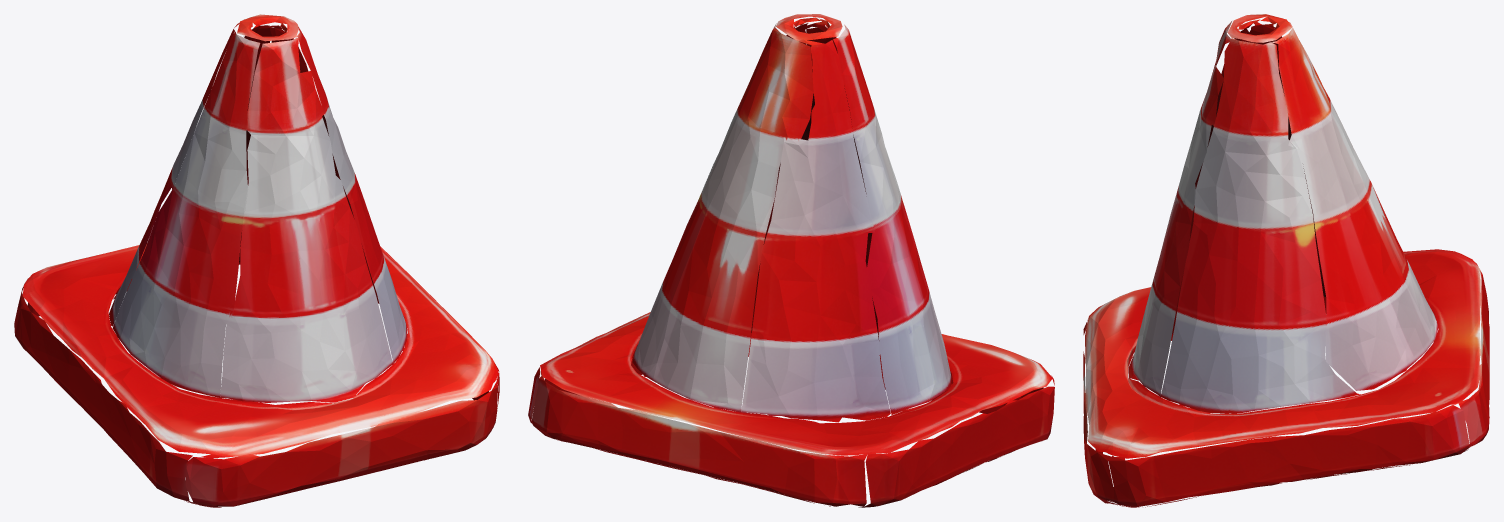
The model's file is hatTrafficCone_lo.glb.
3 renders of one model, left to right at view 1: azimuth 30°, elevation 25°; view 2: azimuth 150°, elevation 25°; view 3: azimuth 270°, elevation 25°, orthographic. The views are drawn at different scales.
Visible parts, largest first — view 1: geometry_0; view 2: geometry_0; view 3: geometry_0.
Boxes of the visible parts, x1=… form: geometry_0: x1=14, y1=14, x2=499, y2=507; geometry_0: x1=528, y1=14, x2=1054, y2=507; geometry_0: x1=1083, y1=14, x2=1489, y2=507.
Size of the model in its own units: 0.8847 by 0.9878 by 0.8904.
1 material, 1 textured.
